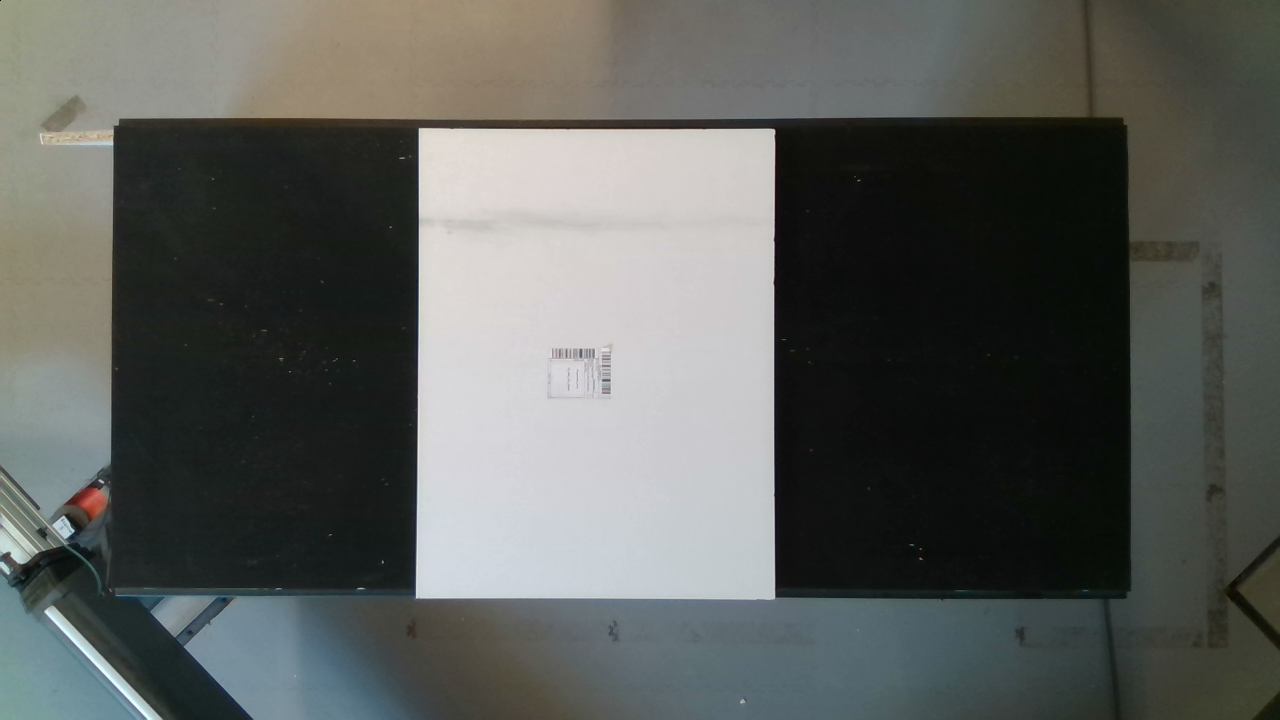barcode: (532, 337, 641, 405)
part2: (393, 118, 801, 608)
